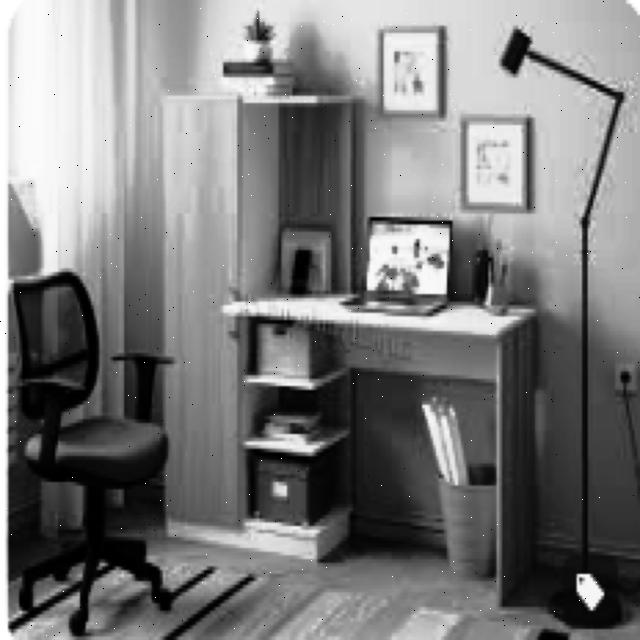book: (13, 268, 176, 636)
table: (223, 287, 538, 603)
